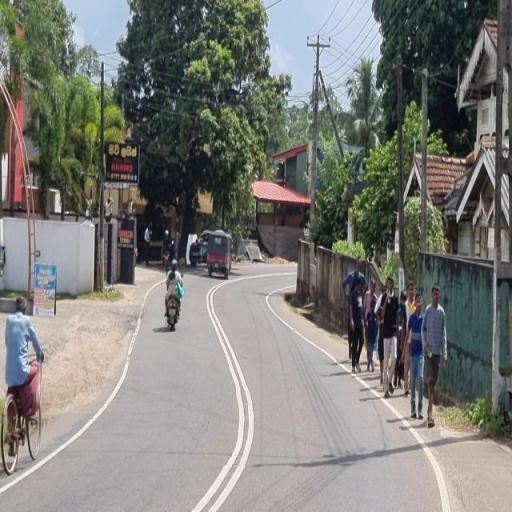double_white_line: (202, 284, 256, 510)
